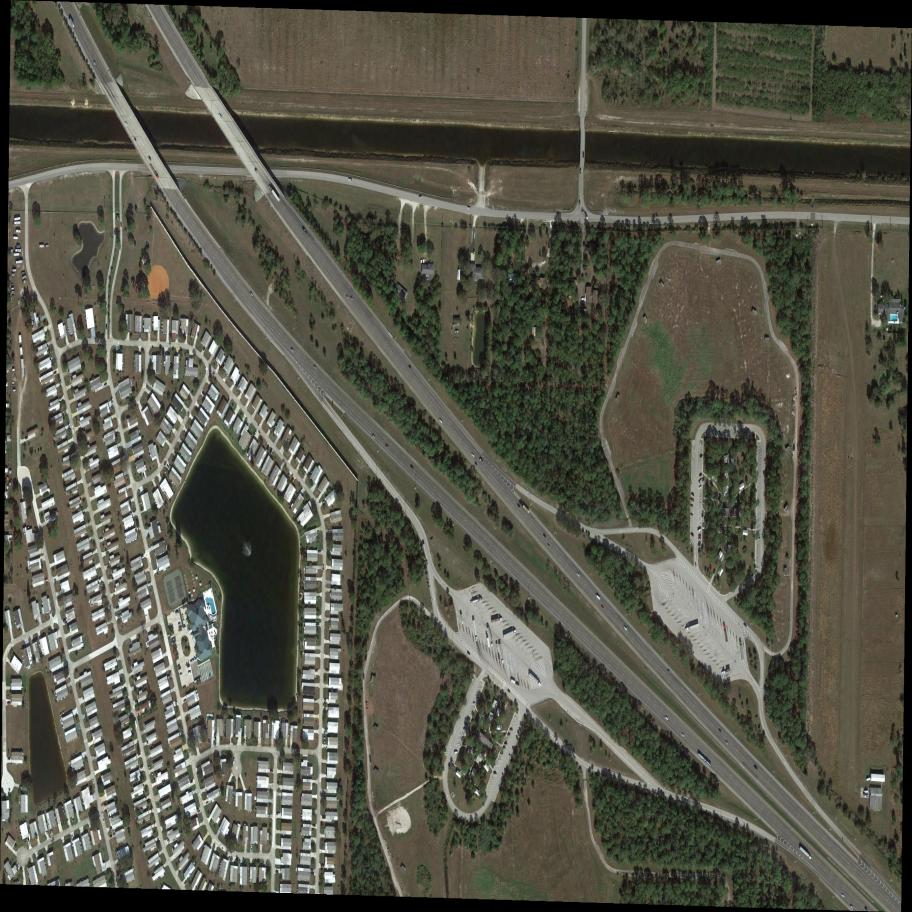large-vehicle: (798, 845, 813, 862), (268, 184, 281, 203), (148, 163, 161, 181), (528, 673, 542, 687), (486, 627, 494, 647), (498, 643, 505, 664), (684, 623, 700, 632), (519, 502, 531, 514), (739, 639, 745, 661), (503, 629, 517, 638), (723, 622, 729, 642), (473, 620, 478, 641), (697, 753, 707, 763), (510, 678, 520, 687), (721, 668, 732, 675), (69, 18, 76, 29), (471, 598, 483, 604), (705, 760, 713, 768), (496, 643, 500, 658), (491, 618, 503, 623), (595, 594, 602, 601), (460, 614, 464, 625)
ship: (864, 790, 869, 794), (455, 330, 459, 334), (864, 795, 869, 798)
small-vehicle: (147, 155, 153, 162), (698, 478, 704, 485), (688, 504, 695, 510), (438, 418, 444, 425), (384, 443, 390, 450), (470, 452, 476, 459), (106, 565, 112, 571), (466, 650, 472, 656), (724, 740, 730, 746), (680, 732, 686, 738), (506, 688, 512, 694), (698, 453, 704, 459), (840, 893, 846, 899), (742, 622, 748, 628), (689, 497, 695, 503), (371, 434, 377, 440), (331, 871, 337, 877), (576, 572, 581, 579), (313, 365, 318, 372), (183, 879, 188, 885), (124, 122, 129, 128), (666, 668, 671, 674), (623, 626, 628, 632), (600, 604, 605, 610), (479, 458, 484, 464), (849, 905, 855, 910), (753, 764, 758, 770), (756, 536, 761, 542), (322, 499, 327, 505), (290, 348, 295, 354), (410, 464, 415, 470), (232, 758, 236, 765), (518, 727, 522, 734), (58, 397, 63, 402), (166, 464, 171, 469), (717, 728, 722, 733), (546, 543, 551, 548), (664, 716, 669, 721), (698, 472, 703, 477), (864, 906, 869, 911), (698, 485, 703, 490), (697, 528, 702, 533), (690, 532, 695, 537), (690, 492, 695, 497), (349, 296, 354, 301), (364, 656, 368, 662), (93, 61, 97, 67), (542, 534, 546, 540), (468, 166, 471, 174), (474, 461, 478, 467), (517, 730, 521, 736), (515, 735, 519, 741), (508, 755, 512, 761), (719, 431, 722, 438), (725, 431, 728, 438), (512, 746, 515, 753), (880, 295, 885, 299), (205, 802, 210, 806), (197, 811, 202, 815), (183, 699, 188, 703), (186, 664, 191, 668), (187, 671, 192, 675), (115, 607, 120, 611), (44, 579, 49, 583), (140, 766, 145, 770), (321, 863, 325, 868), (99, 538, 104, 542), (169, 464, 173, 469), (44, 244, 49, 248), (690, 512, 694, 517), (408, 364, 412, 369), (463, 728, 468, 732), (345, 295, 349, 300), (92, 779, 95, 785), (228, 856, 231, 862), (420, 259, 423, 265), (175, 611, 179, 615), (177, 664, 181, 668), (178, 667, 182, 671), (179, 673, 183, 677), (64, 621, 68, 625), (109, 834, 113, 838), (311, 872, 315, 876), (698, 537, 702, 541), (493, 771, 497, 775), (112, 834, 117, 837), (134, 137, 137, 142), (418, 196, 423, 199), (501, 772, 504, 777), (363, 673, 365, 680), (366, 702, 368, 709), (251, 844, 253, 851), (93, 785, 96, 789), (178, 622, 181, 626), (314, 700, 318, 703), (276, 813, 280, 816), (310, 868, 314, 871), (139, 333, 141, 339), (106, 324, 108, 330), (579, 200, 581, 206), (467, 207, 471, 210), (454, 751, 458, 754), (464, 724, 468, 727), (507, 735, 511, 738), (504, 742, 508, 745), (473, 250, 475, 256), (423, 259, 425, 265), (244, 740, 246, 745), (270, 770, 273, 773), (324, 731, 327, 734), (104, 384, 107, 387), (32, 320, 35, 323), (315, 670, 318, 673), (318, 551, 321, 554), (510, 728, 513, 731), (425, 258, 426, 266), (580, 168, 581, 175), (323, 699, 326, 701), (326, 669, 328, 672), (177, 334, 178, 340), (473, 703, 476, 705), (323, 564, 324, 570), (583, 152, 584, 158), (503, 747, 506, 749), (239, 859, 240, 864), (121, 222, 122, 227), (323, 570, 324, 575), (325, 730, 327, 731)
